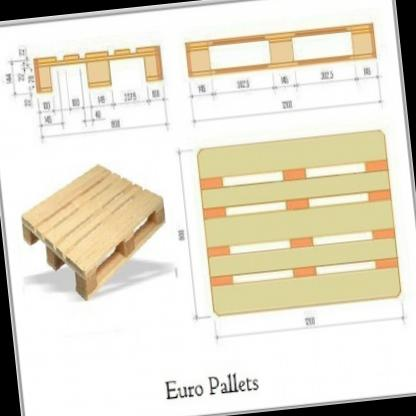BoxFace: (195, 129, 405, 318), (21, 162, 167, 304), (184, 21, 376, 81), (32, 45, 164, 94)
